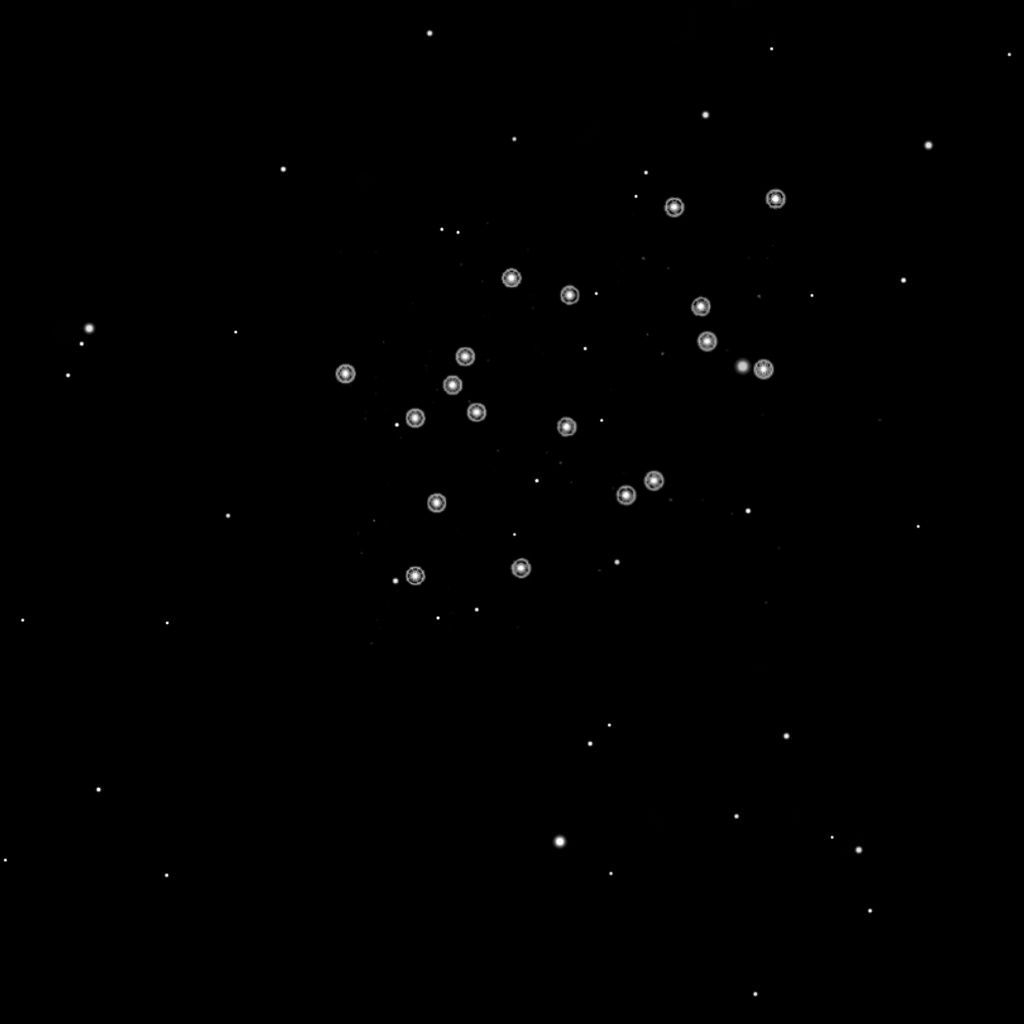canis_major: (400, 262, 584, 435)
